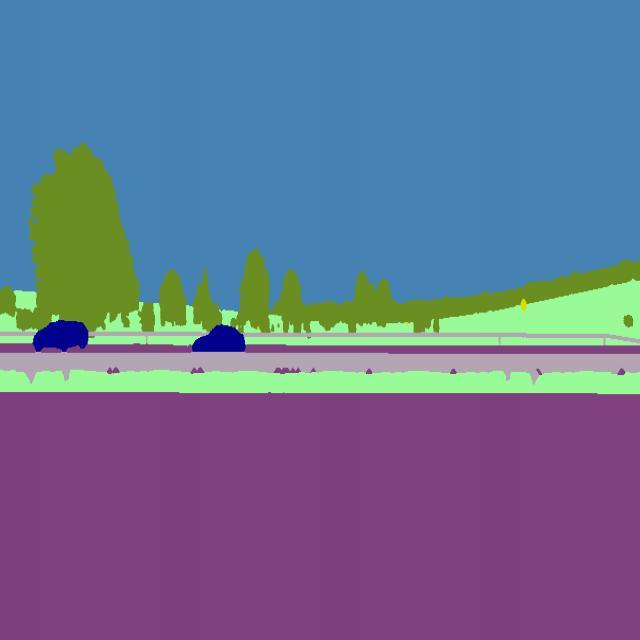safe: (27, 309, 98, 368), (192, 320, 251, 362)
